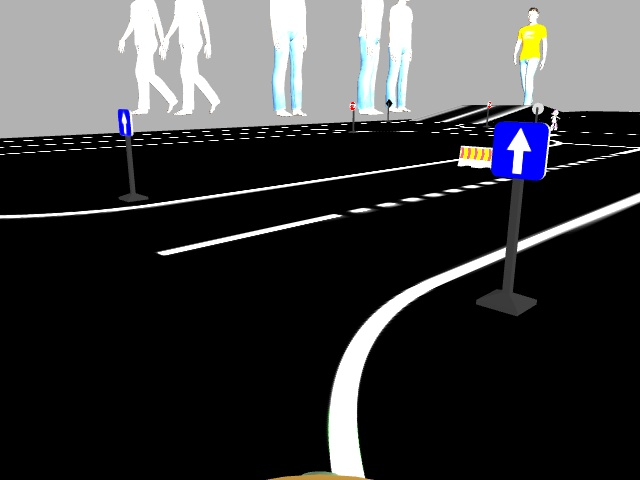ClosedRoadStand: (497, 122, 543, 178), (460, 146, 489, 166)
OneWay: (117, 109, 134, 135)
